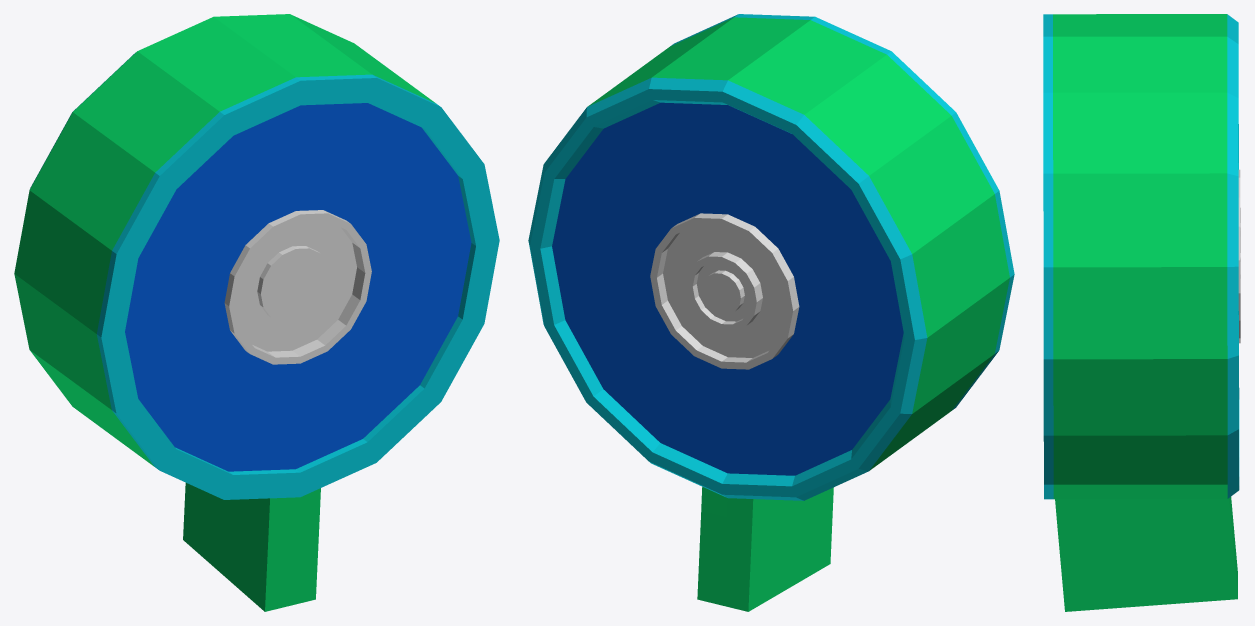
File: MagAA12.fbx
3 renders of one model, left to right at view 1: azimuth 30°, elevation 25°; view 2: azimuth 150°, elevation 25°; view 3: azimuth 270°, elevation 25°, orthographic. The views are drawn at different scales.
Parts seen in each view (by area): view 1: AA-12; view 2: AA-12; view 3: AA-12.
Part boxes in pixels (box(x1,y1,x2,y2)): AA-12: box(14, 14, 499, 611); AA-12: box(528, 14, 1014, 611); AA-12: box(1043, 14, 1240, 611).
Bounding box in the file's own units: 0.1142 × 0.0464 × 0.146.
